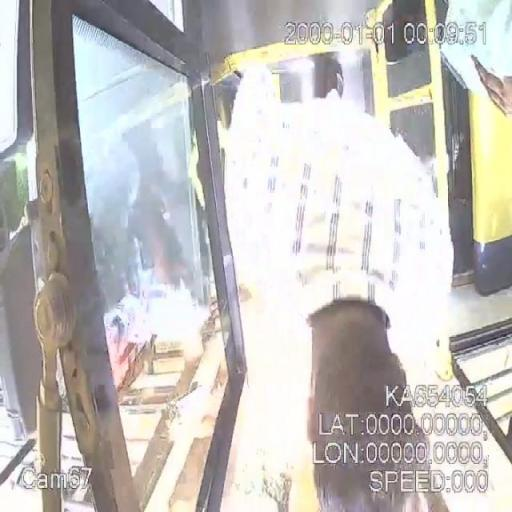persona: (222, 57, 445, 511)
